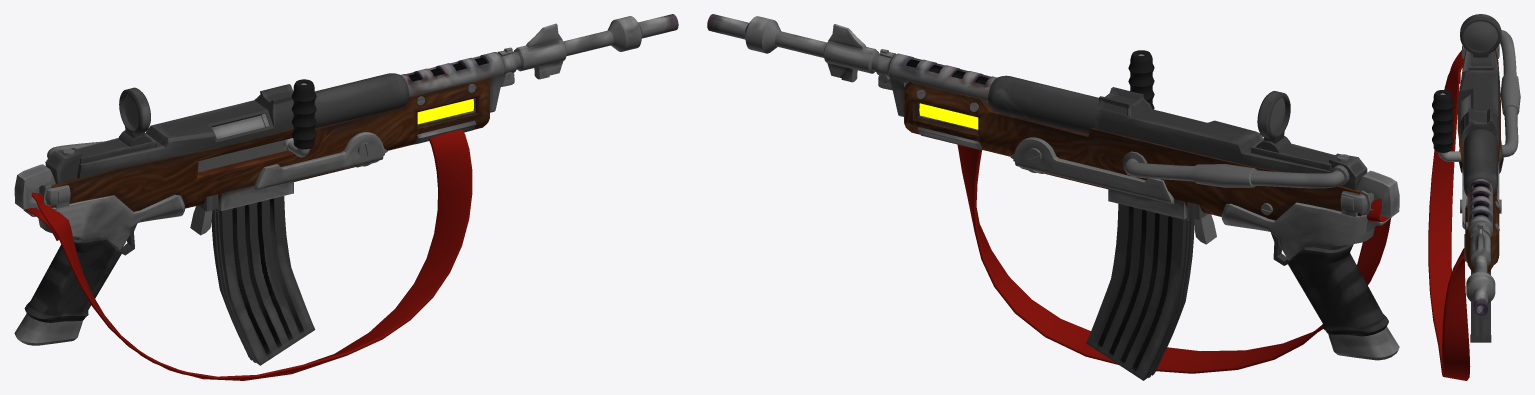
Rendered from sf_ratrifle.fbx.
3 views of the same model, side by side, from view 1: azimuth 30°, elevation 25°; view 2: azimuth 150°, elevation 25°; view 3: azimuth 270°, elevation 25° (orthographic). The views are drawn at different scales.
Visible parts, largest first — view 1: gun, rat_lanyard; view 2: gun, rat_lanyard; view 3: gun, rat_lanyard.
Part boxes in pixels (x1=…): gun: x1=14, y1=14, x2=678, y2=365; rat_lanyard: x1=25, y1=129, x2=472, y2=380; gun: x1=707, y1=14, x2=1399, y2=380; rat_lanyard: x1=957, y1=144, x2=1391, y2=373; gun: x1=1432, y1=14, x2=1520, y2=342; rat_lanyard: x1=1428, y1=50, x2=1470, y2=380.
Size of the model in its own units: 141 by 63.73 by 19.16.
